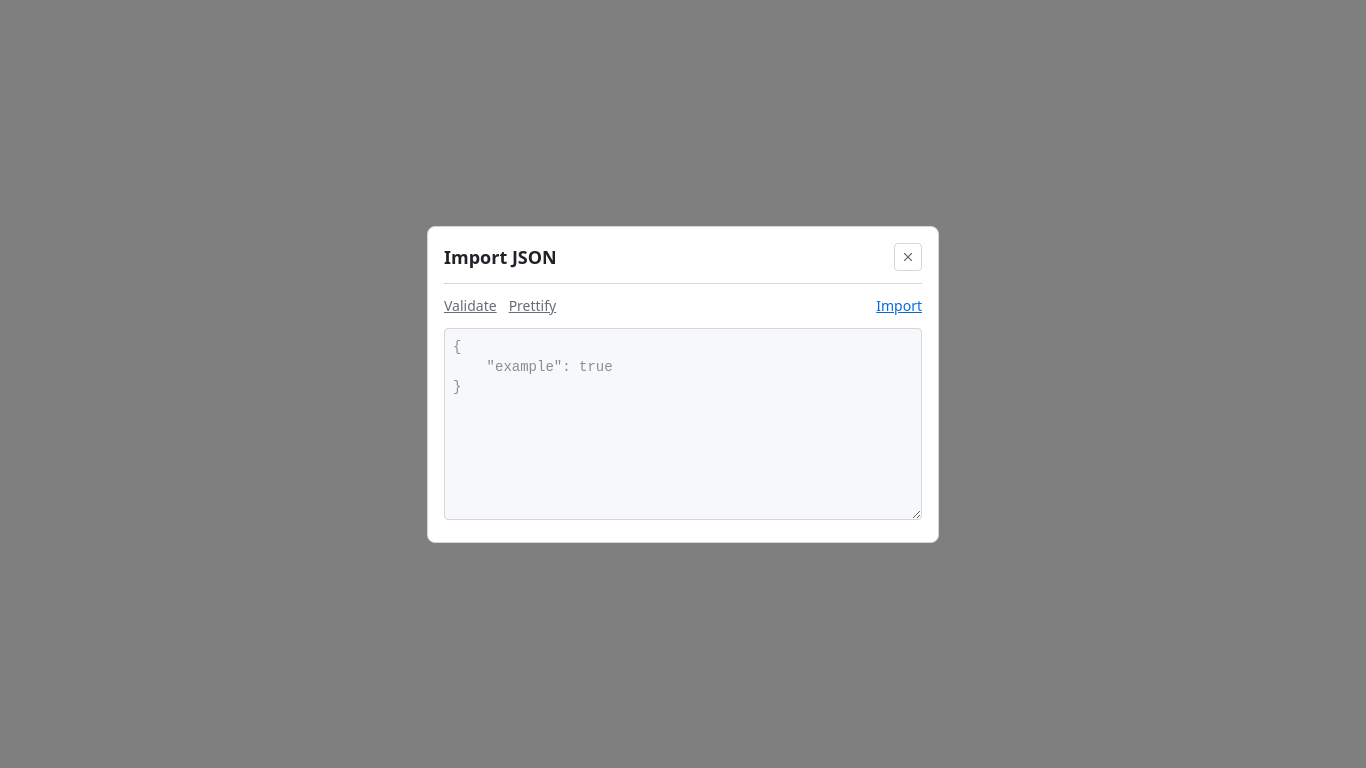
Test: JsonImportModal › shows a toast when validation fails
Click the text box at (683, 424), box [444,328,922,520]
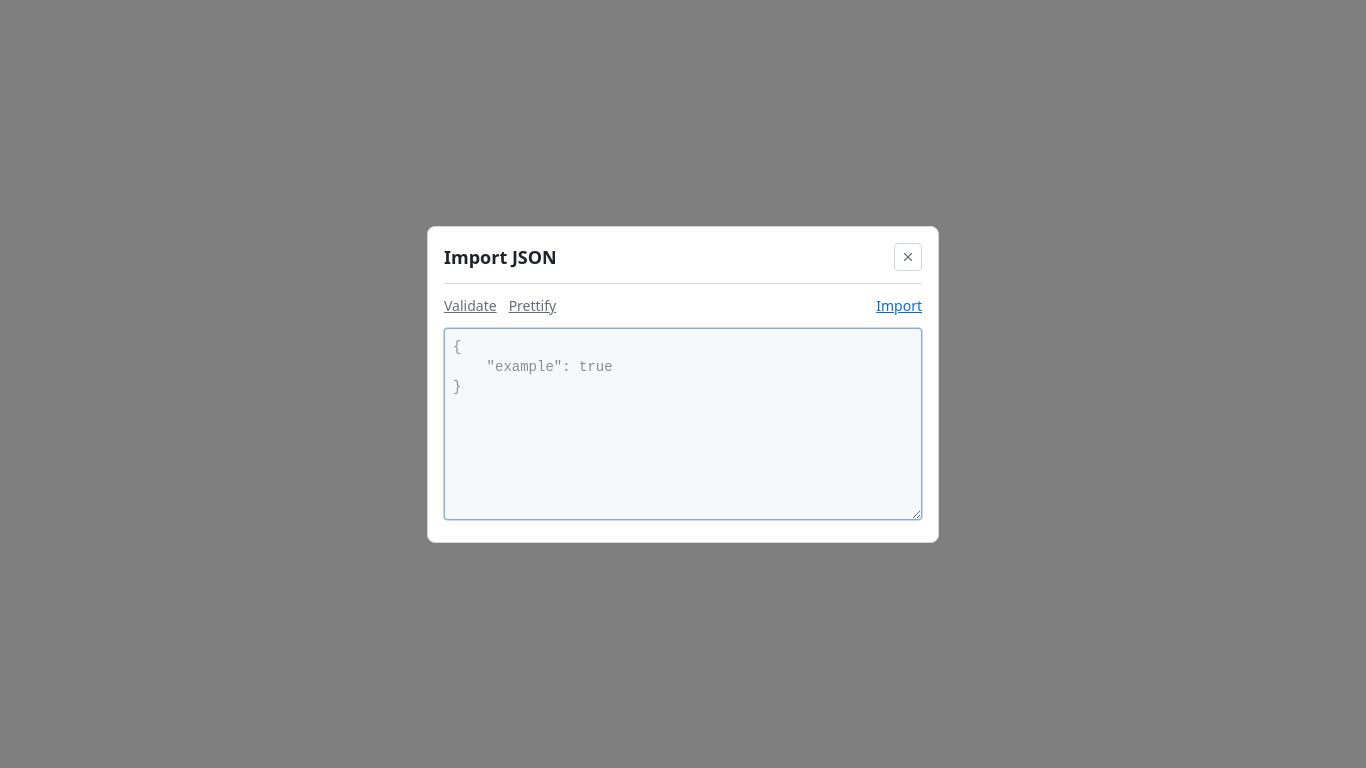
Type keys "{bad json"
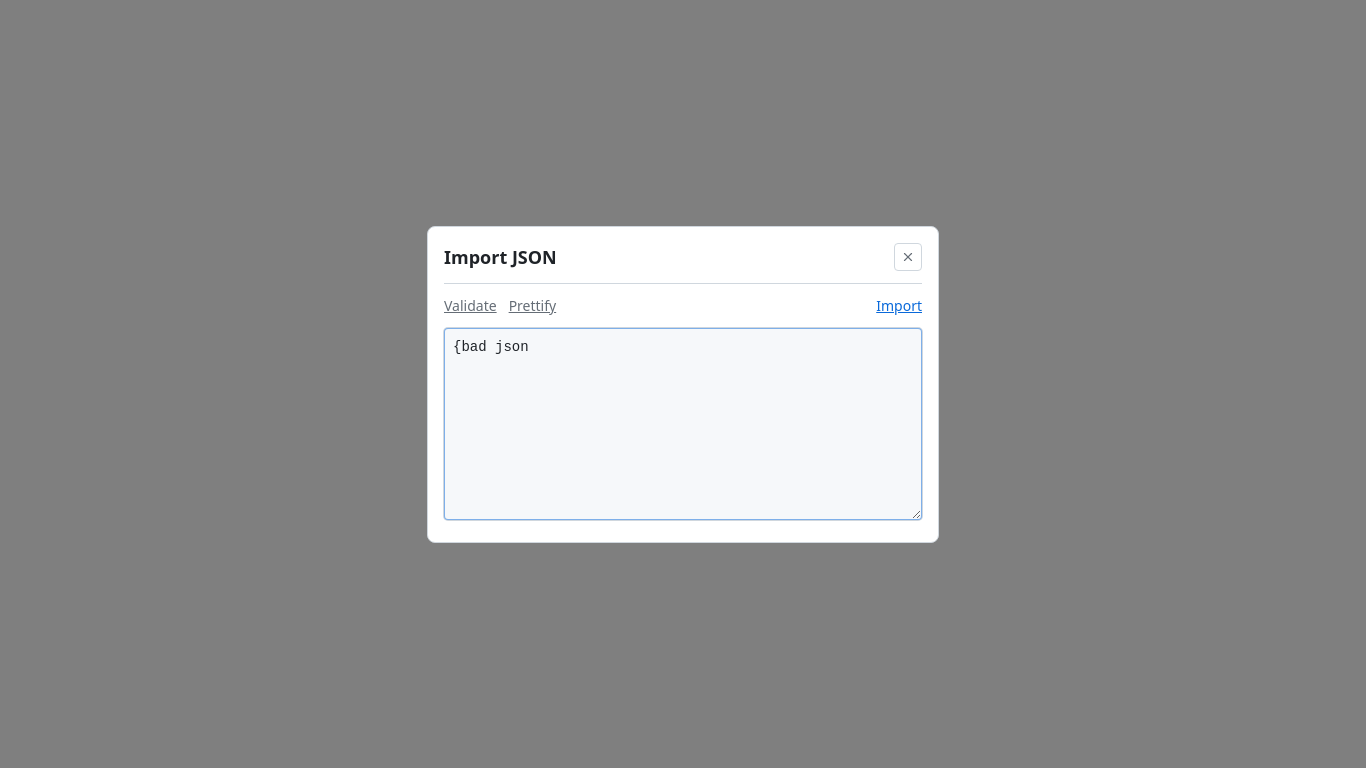
Click the button "Validate" at (470, 306), box [444,296,497,316]
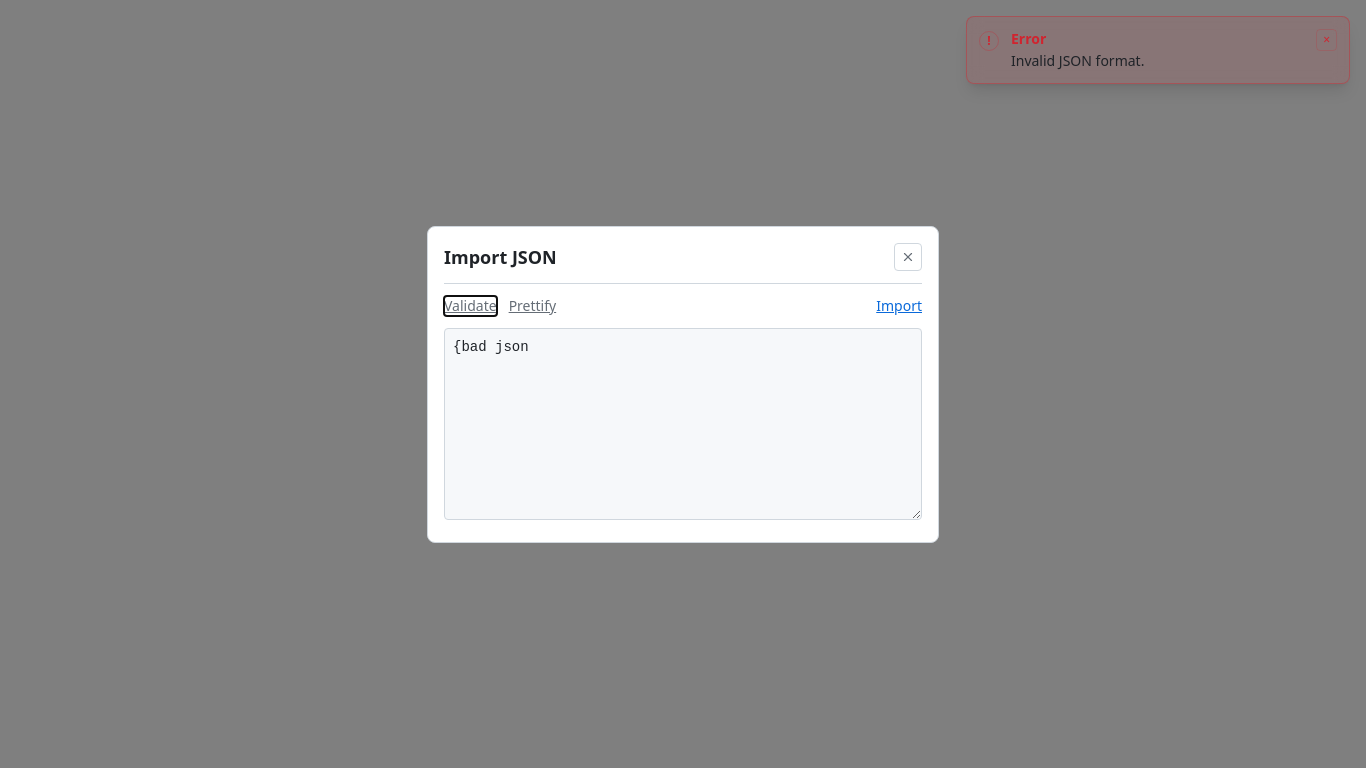
Expected: the message shows "Invalid JSON format.", [1011,51,1144,70]
